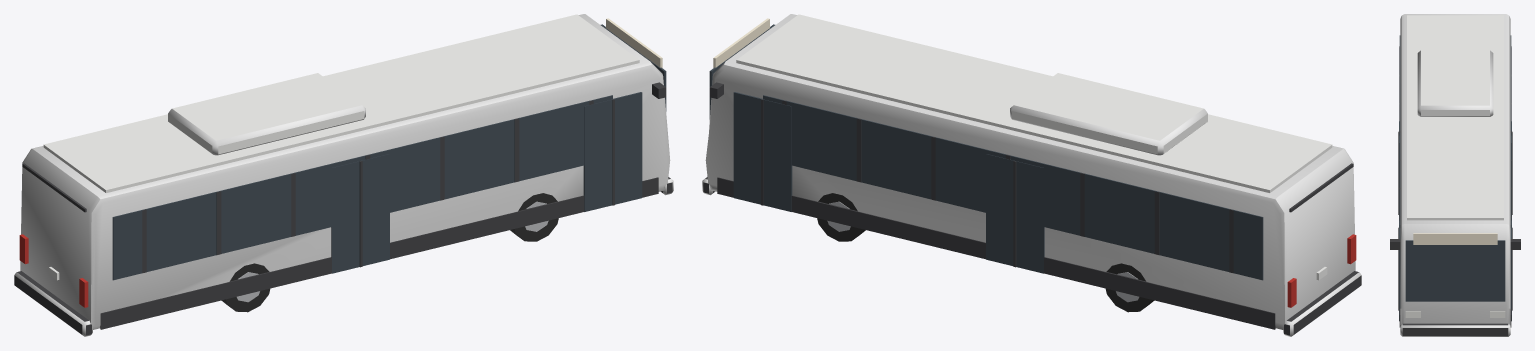
The model's file is bus.glb.
3 renders of one model, left to right at view 1: azimuth 30°, elevation 25°; view 2: azimuth 150°, elevation 25°; view 3: azimuth 270°, elevation 25°, orthographic. The views are drawn at different scales.
Parts seen in each view (by area): view 1: bus; view 2: bus; view 3: bus.
Boxes of the visible parts, bbox=[...] form: bus: bbox=[14, 14, 673, 336]; bus: bbox=[702, 14, 1361, 336]; bus: bbox=[1390, 14, 1520, 336].
Size of the model in its own units: 12.3 by 3.33 by 3.03.
